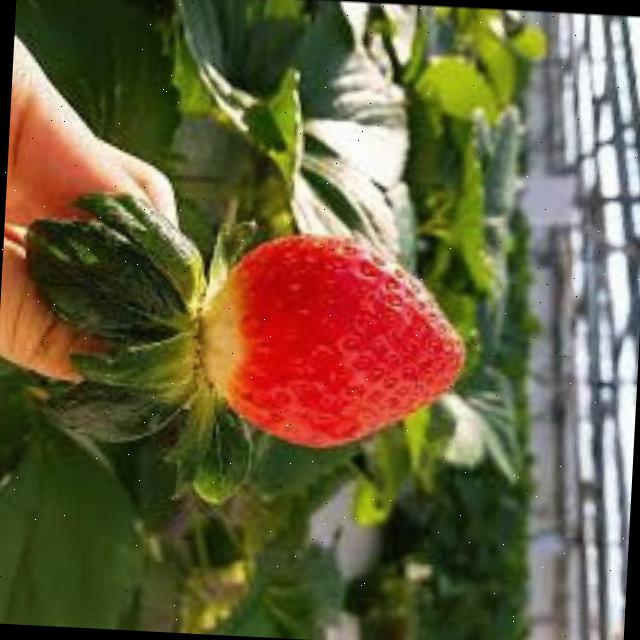strawberry: (192, 226, 472, 456)
